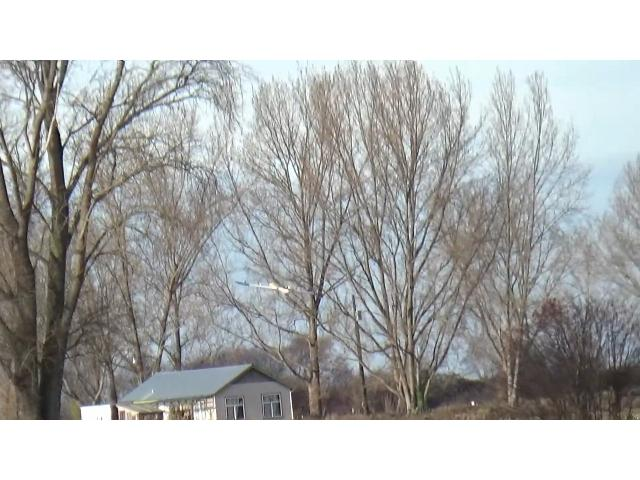Anti-Drone: (235, 280, 321, 293)
